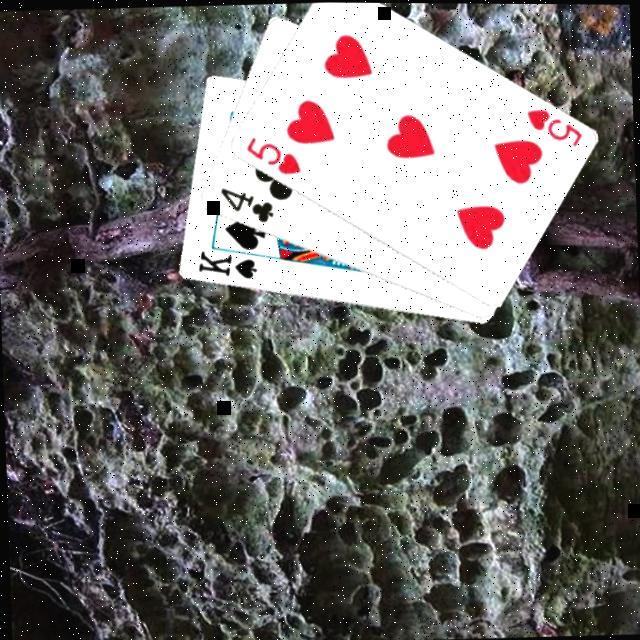4C: (214, 185, 274, 228)
5H: (238, 132, 302, 180), (520, 105, 582, 151)
KS: (191, 249, 258, 285)
